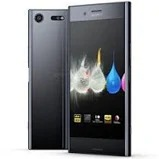sony: (65, 1, 132, 157)
